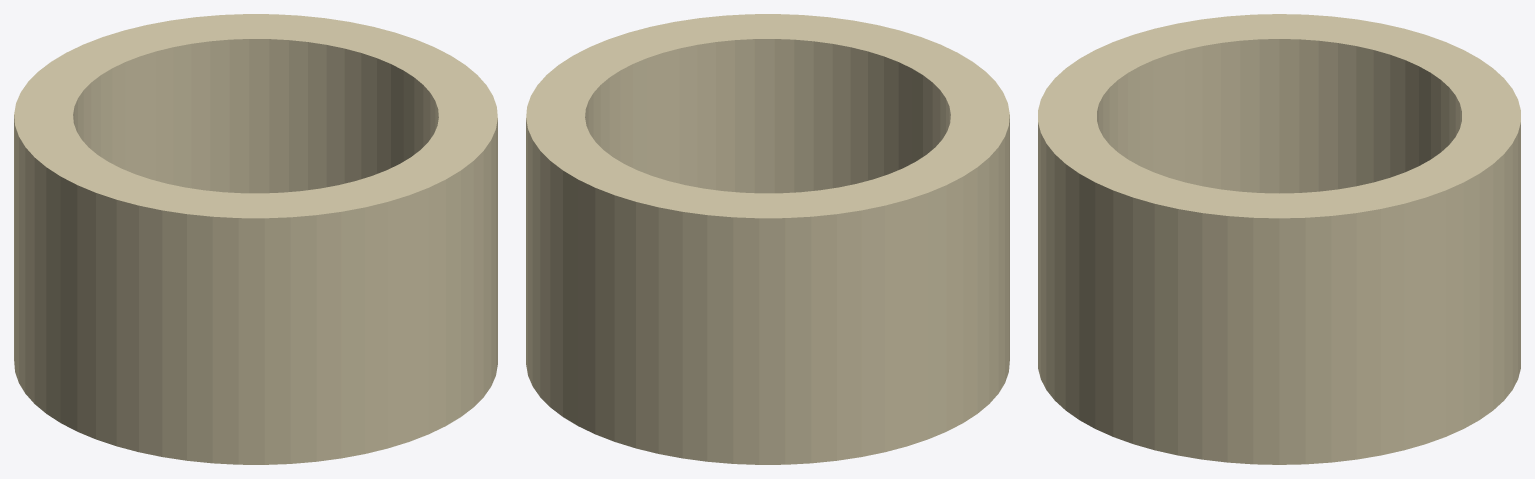
File: starter-rear-bushing.glb
3 views of the same model, side by side, from view 1: azimuth 30°, elevation 25°; view 2: azimuth 150°, elevation 25°; view 3: azimuth 270°, elevation 25° (orthographic).
Parts seen in each view (by area): view 1: world; view 2: world; view 3: world.
Part boxes in pixels (<box>): world: <box>14,14,497,464</box>; world: <box>526,14,1009,464</box>; world: <box>1038,14,1520,464</box>.
Size of the model in its own units: 0.016 by 0.009 by 0.016.
